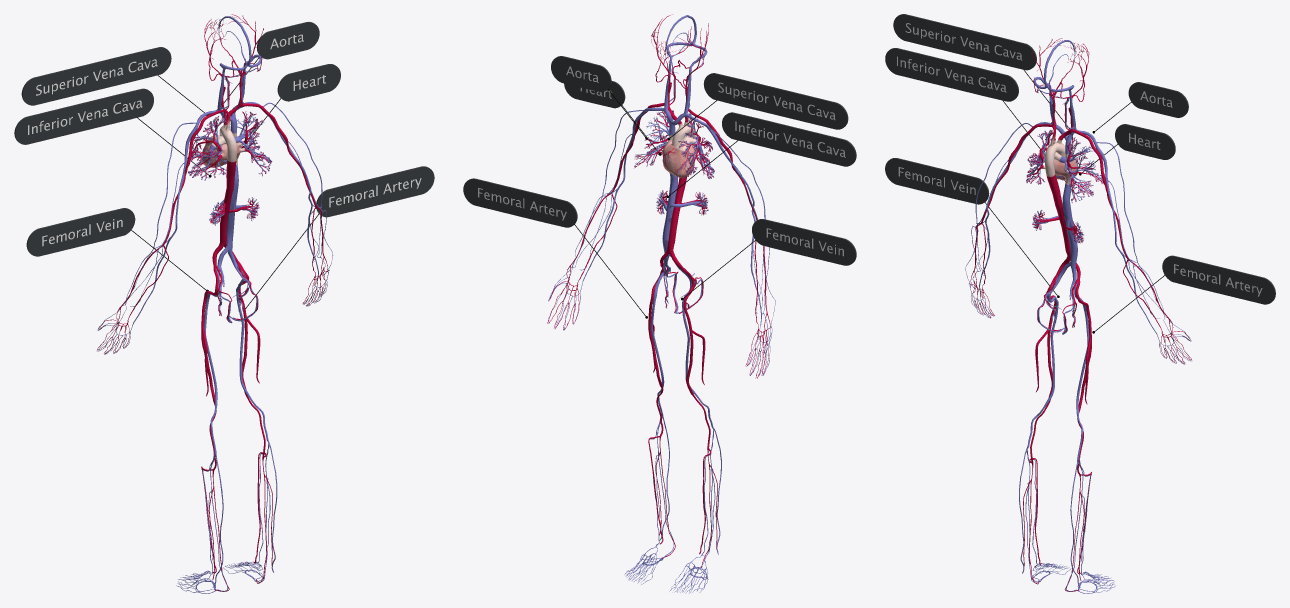
Rendered from CirculatorySystem.glb.
3 renders of one model, left to right at view 1: azimuth 30°, elevation 25°; view 2: azimuth 150°, elevation 25°; view 3: azimuth 330°, elevation 25°, orthographic. The views are drawn at different scales.
Visible parts, largest first — view 1: LabelGroup4, circulatory_system; view 2: LabelGroup4, circulatory_system; view 3: LabelGroup4, circulatory_system.
Part boxes in pixels (x1,y1,x2,y2): LabelGroup4: (14,22,434,308); circulatory_system: (97,14,333,593); LabelGroup4: (463,56,856,318); circulatory_system: (547,14,775,593); LabelGroup4: (885,14,1275,333); circulatory_system: (965,38,1191,593).
Size of the model in its own units: 1.34 by 1.77 by 0.2586.
4 materials, 1 textured.
